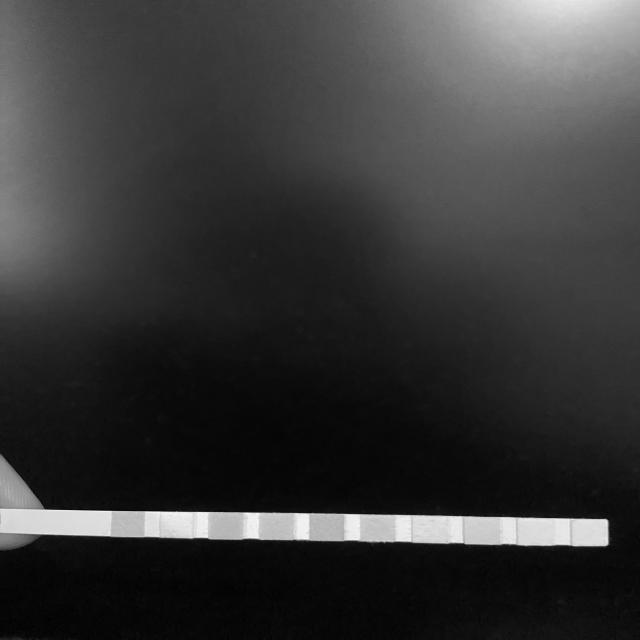Bilirubin: (163, 512, 195, 537)
Blood: (311, 514, 343, 540)
Glucose: (114, 512, 144, 536)
Ketone: (210, 513, 243, 539)
Leukocytes: (574, 520, 608, 546)
Nitrite: (519, 518, 554, 544)
Protein: (412, 516, 448, 542)
SpGravity: (260, 513, 294, 540)
Urobilinogen: (464, 518, 500, 544)
background: (0, 0, 640, 640)
pH: (362, 515, 396, 541)
strip: (0, 509, 610, 546)
